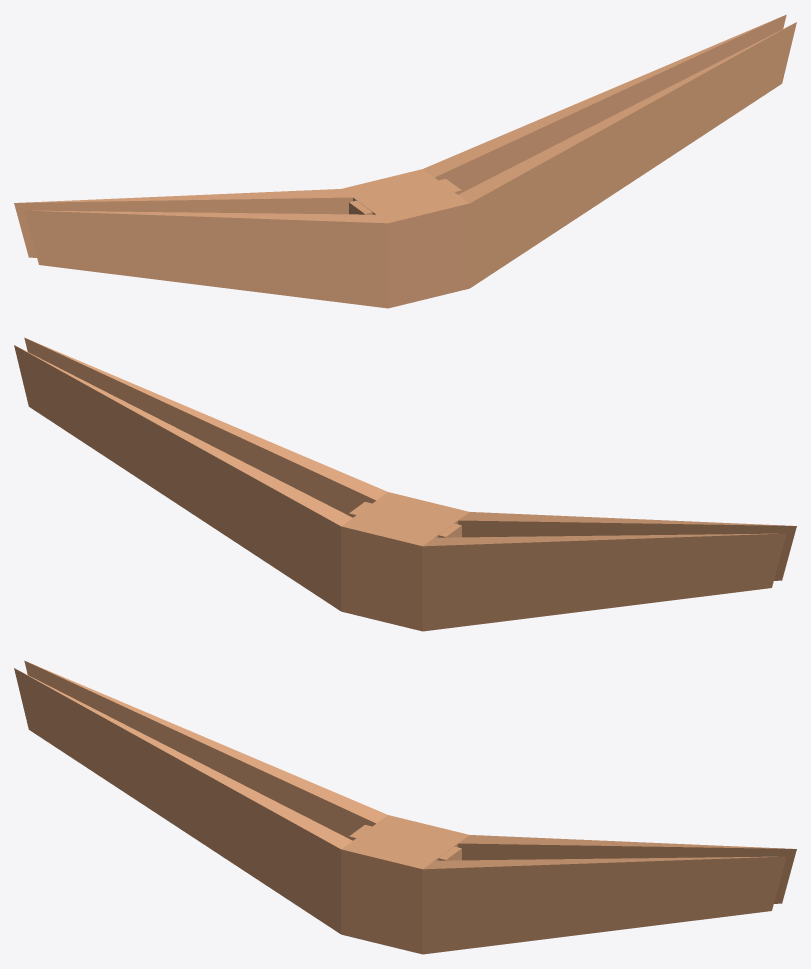
Rendered from Guard1.glb.
The picture shows the model from 3 angles, top to bottom: view 1: azimuth 30°, elevation 25°; view 2: azimuth 150°, elevation 25°; view 3: azimuth 330°, elevation 25°; orthographic projection.
Visible parts, largest first — view 1: Guard 1; view 2: Guard 1; view 3: Guard 1.
Boxes of the visible parts, left/top/right/bottom form: Guard 1: left=14, top=14, right=796, bottom=308; Guard 1: left=14, top=337, right=796, bottom=631; Guard 1: left=14, top=660, right=796, bottom=954.
Bounding box in the file's own units: 2.61 × 0.545 × 0.275.
